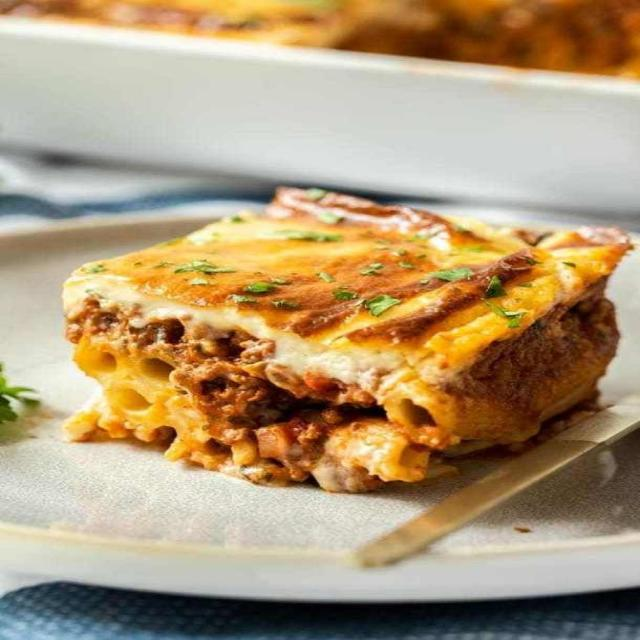Bechamel: (37, 165, 640, 509)
